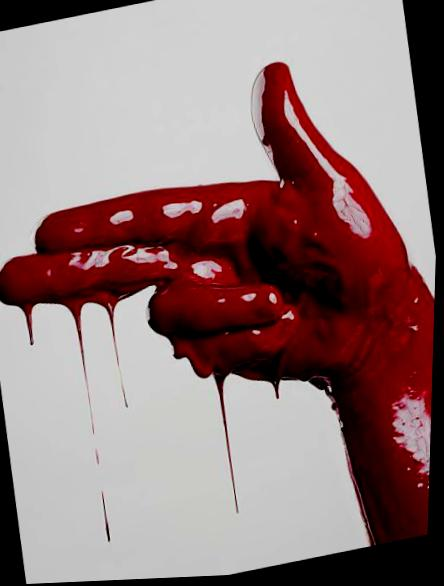Fire: (0, 66, 437, 549)
